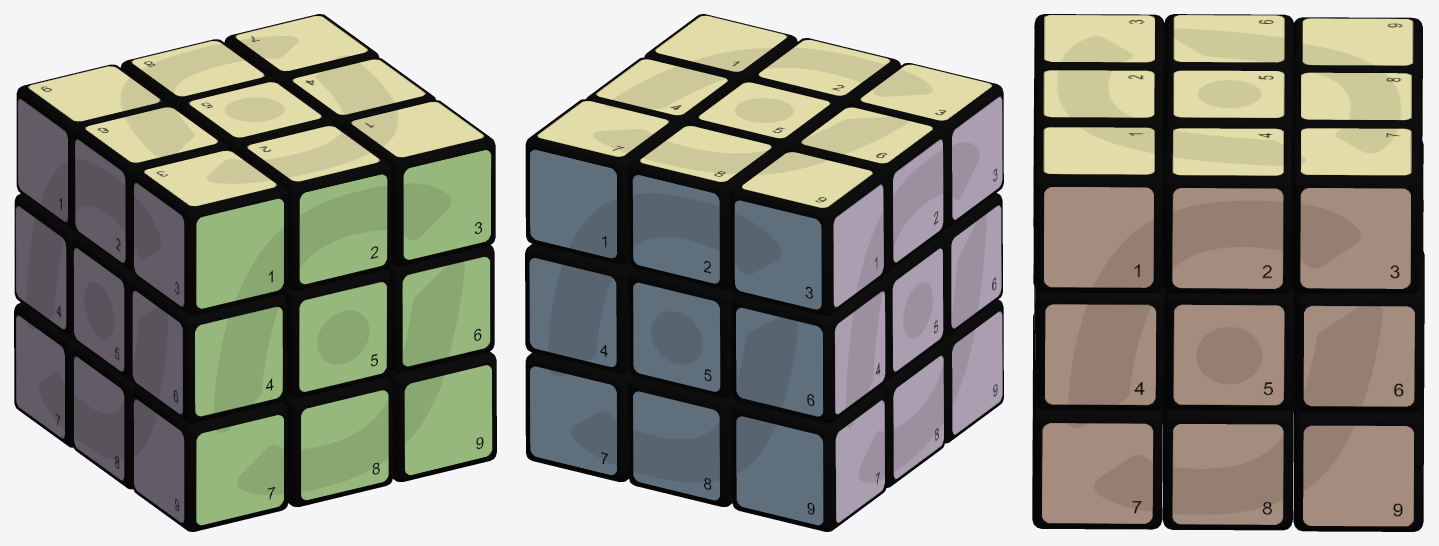
Rendered from Rubix_cube_prototype_pastel.glb.
The picture shows the model from 3 angles, left to right: view 1: azimuth 30°, elevation 25°; view 2: azimuth 150°, elevation 25°; view 3: azimuth 270°, elevation 25°; orthographic projection. The views are drawn at different scales.
Parts seen in each view (by area): view 1: s3_block_9, s3_block_6, s3_block_2, s3_block_3, s3_block_5, s3_block_1, s3_block_8, s3_block_7, s3_block_4, top_block_3, s4_block_1, s4_block_6 (+34 smaller); view 2: s1_block_9, s1_block_4, s1_block_3, s1_block_5, s1_block_8, s1_block_6, s1_block_2, s1_block_1, s1_block_7, top_block_9, s4_block_5, s4_block_4 (+34 smaller); view 3: s2_block_5, s2_block_9, s2_block_3, s2_block_8, s2_block_2, s2_block_6, s2_block_4, s2_block_1, s2_block_7, top_block_1, top_block_7, top_block_4 (+21 smaller).
Boxes of the visible parts, box(x1,y1,x2,y2) form: s3_block_9: box(404, 364, 492, 476); s3_block_6: box(402, 255, 490, 367); s3_block_2: box(299, 172, 387, 285); s3_block_3: box(403, 148, 491, 261); s3_block_5: box(299, 280, 387, 393); s3_block_1: box(196, 197, 283, 310); s3_block_8: box(301, 388, 388, 501); s3_block_7: box(196, 413, 283, 526); s3_block_4: box(195, 305, 282, 417); top_block_3: box(132, 149, 288, 315); s4_block_1: box(17, 96, 68, 223); s4_block_6: box(132, 289, 183, 416); s1_block_9: box(736, 415, 823, 526); s1_block_4: box(529, 256, 616, 368); s1_block_3: box(734, 199, 821, 310); s1_block_5: box(633, 281, 720, 392); s1_block_8: box(632, 390, 719, 501); s1_block_6: box(736, 306, 823, 417); s1_block_2: box(632, 173, 719, 284); s1_block_1: box(530, 148, 617, 259); s1_block_7: box(530, 365, 617, 476); top_block_9: box(730, 150, 884, 316); s4_block_5: box(892, 246, 943, 373); s4_block_4: box(834, 289, 885, 416); s2_block_5: box(1173, 304, 1284, 405); s2_block_9: box(1303, 425, 1414, 526); s2_block_3: box(1300, 188, 1411, 288); s2_block_8: box(1172, 424, 1283, 524); s2_block_2: box(1172, 188, 1283, 288); s2_block_6: box(1303, 305, 1414, 406); s2_block_4: box(1044, 304, 1156, 405); s2_block_1: box(1043, 186, 1154, 287); s2_block_7: box(1041, 423, 1153, 523); top_block_1: box(1033, 126, 1163, 293); top_block_7: box(1291, 127, 1421, 294); top_block_4: box(1163, 127, 1292, 294).
Bounding box in the file's own units: 6.07 × 6.09 × 6.04.
Materials: 7 (6 with a texture image).
